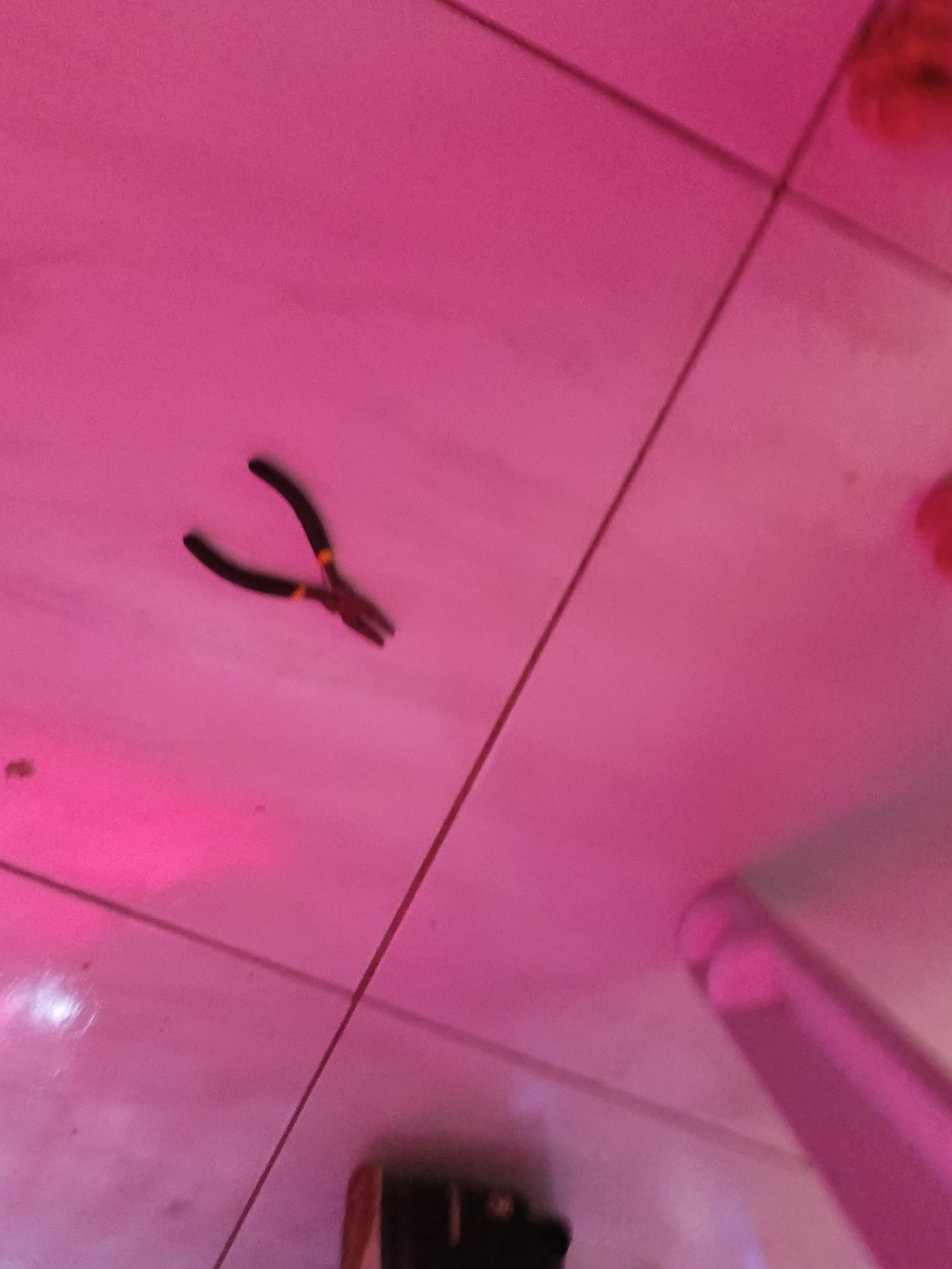Pinzas: (183, 456, 394, 645)
